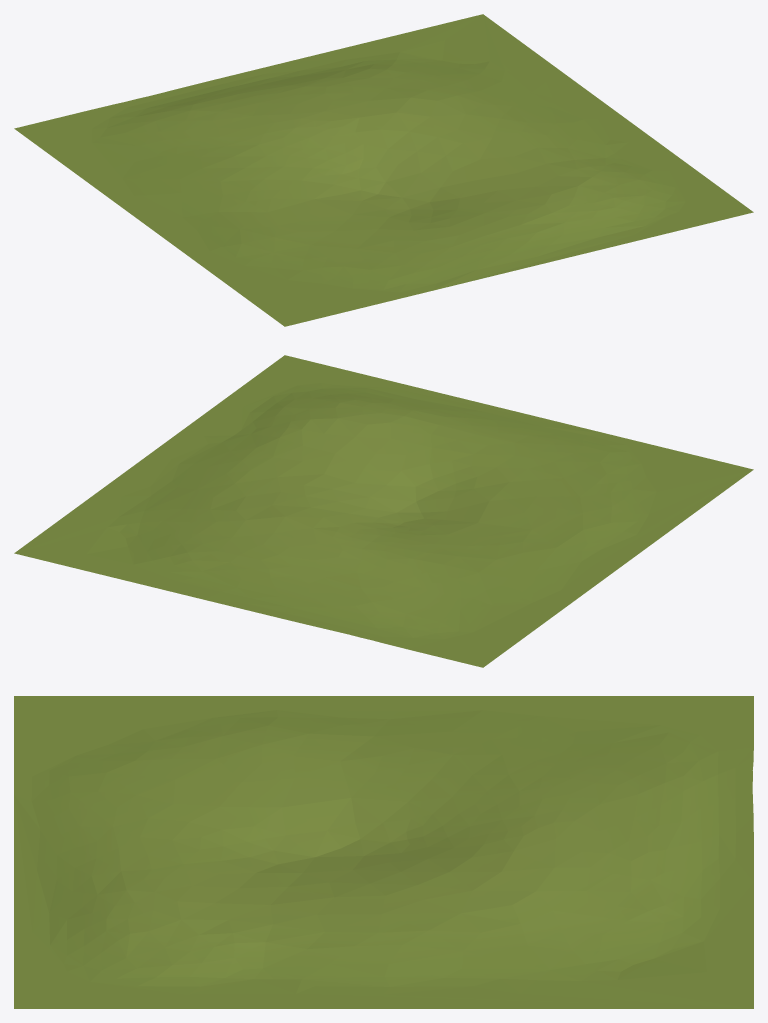
Rendered from Terrain_08.fbx.
3 views of the same model, one above another, from view 1: azimuth 30°, elevation 25°; view 2: azimuth 150°, elevation 25°; view 3: azimuth 270°, elevation 25° (orthographic). The views are drawn at different scales.
Parts seen in each view (by area): view 1: Terrain_08; view 2: Terrain_08; view 3: Terrain_08.
Part boxes in pixels (<box>): Terrain_08: <box>14,14,753,326</box>; Terrain_08: <box>14,355,753,667</box>; Terrain_08: <box>14,696,753,1008</box>.
Bounding box in the file's own units: 128 × 5.27 × 128.
